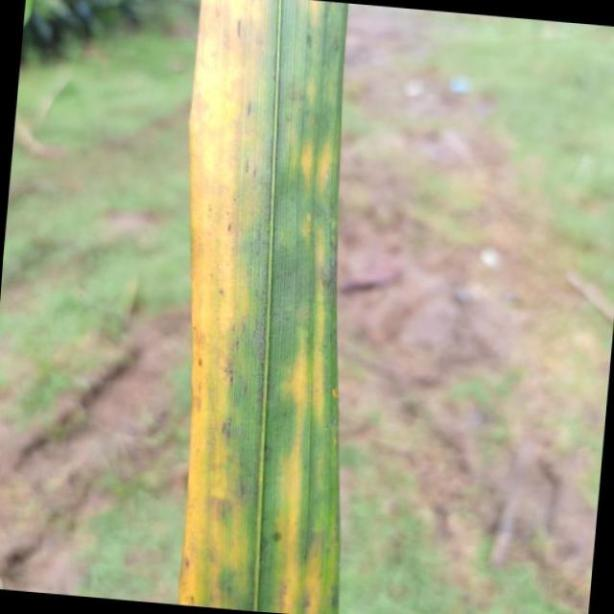Megnesium: (179, 0, 341, 614)
